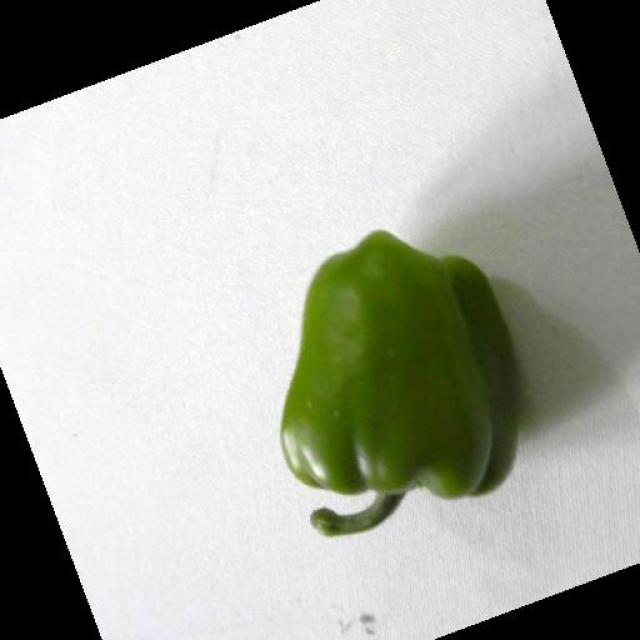Fresh_Capsicum: (279, 185, 522, 544)
